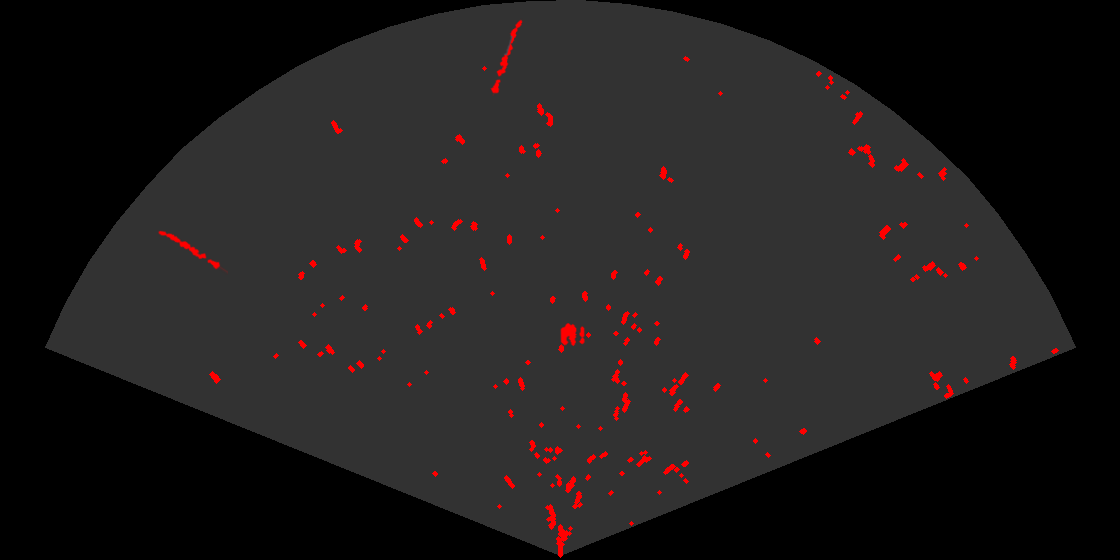ball: (559, 322, 586, 348)
chain: (157, 229, 228, 275), (489, 18, 524, 96)
